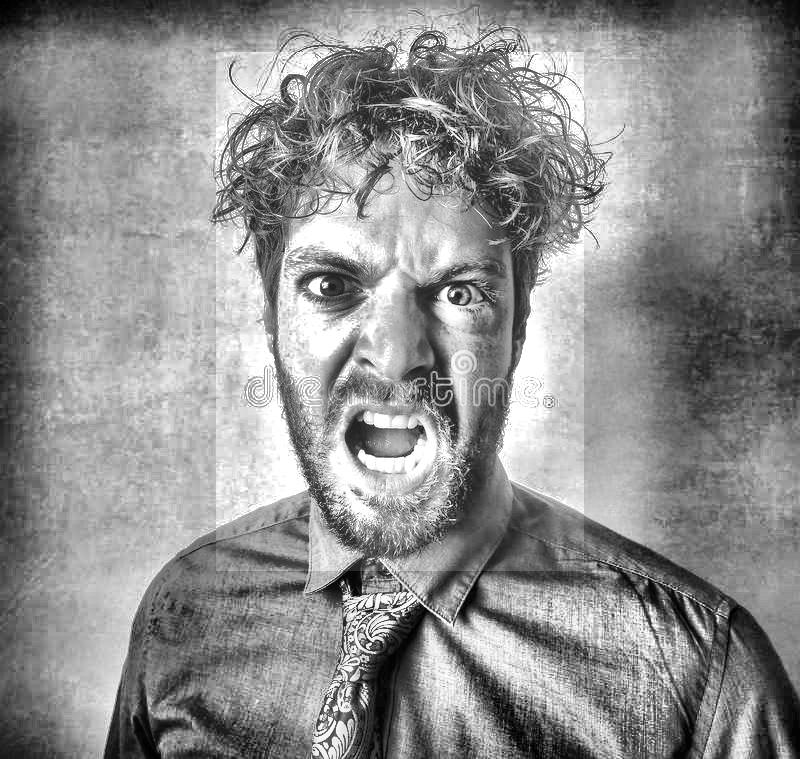angry: (216, 53, 584, 572)
